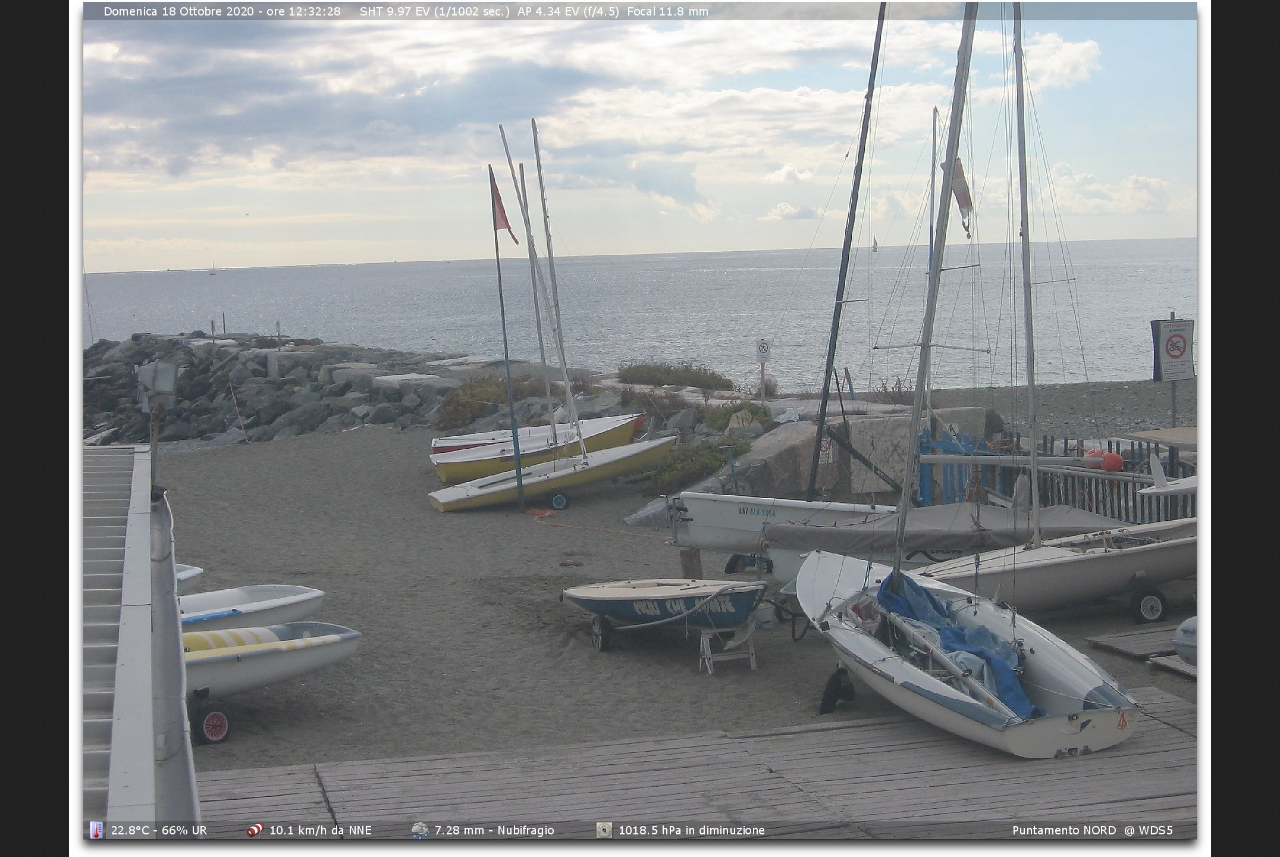no: (486, 166, 521, 245)
